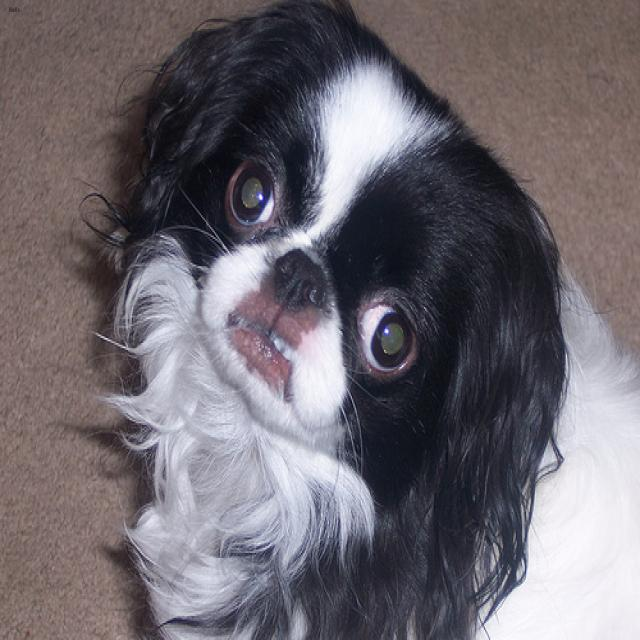dog-japanese_chin: (69, 2, 637, 637)
